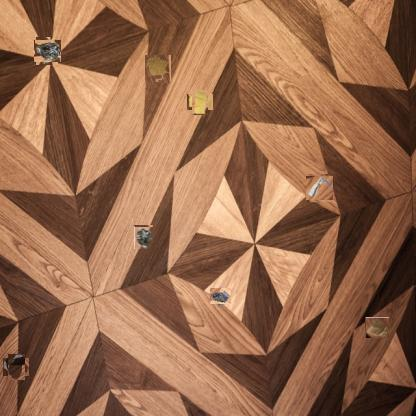dirty: (306, 175, 332, 201), (35, 39, 60, 64), (365, 317, 389, 338), (134, 226, 153, 250), (190, 92, 210, 113), (211, 286, 230, 306)
liquid: (145, 55, 171, 83), (5, 356, 27, 378)
